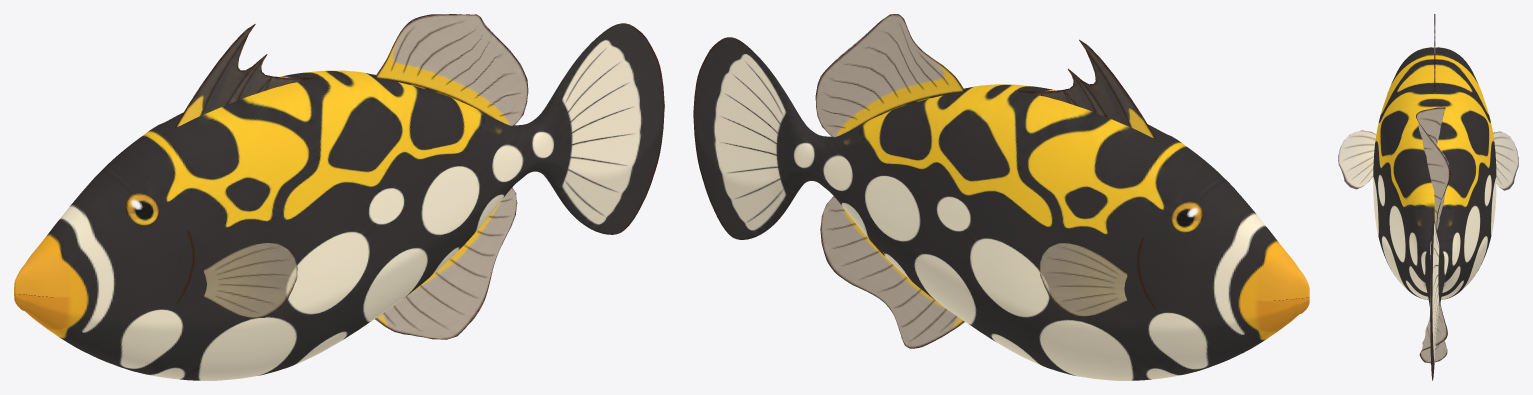
Rendered from fish-light.glb.
The picture shows the model from 3 angles, left to right: view 1: azimuth 30°, elevation 25°; view 2: azimuth 150°, elevation 25°; view 3: azimuth 270°, elevation 25°; orthographic projection. The views are drawn at different scales.
Visible parts, largest first — view 1: body_and_tail_continuous, second_dorsal, anal, pectoral_left, first_dorsal, eye_left; view 2: body_and_tail_continuous, second_dorsal, anal, pectoral_right, first_dorsal, eye_right; view 3: body_and_tail_continuous, second_dorsal, pectoral_left, pectoral_right, anal.
Boxes of the visible parts, x1,y1,x2,y2 form: body_and_tail_continuous: (14, 23, 664, 380); second_dorsal: (374, 14, 528, 126); anal: (375, 187, 517, 339); pectoral_left: (203, 243, 297, 317); first_dorsal: (175, 24, 322, 127); eye_left: (125, 193, 159, 226); body_and_tail_continuous: (693, 37, 1309, 380); second_dorsal: (815, 14, 964, 137); anal: (820, 196, 964, 348); pectoral_right: (1039, 243, 1127, 316); first_dorsal: (1015, 39, 1155, 138); eye_right: (1171, 201, 1203, 233); body_and_tail_continuous: (1373, 47, 1496, 380); second_dorsal: (1416, 107, 1450, 230); pectoral_left: (1338, 130, 1376, 189); pectoral_right: (1493, 131, 1518, 190); anal: (1419, 303, 1447, 363).
Size of the model in its own units: 0.2999 by 0.1599 by 0.0937.
Materials: 2 (2 with a texture image).
